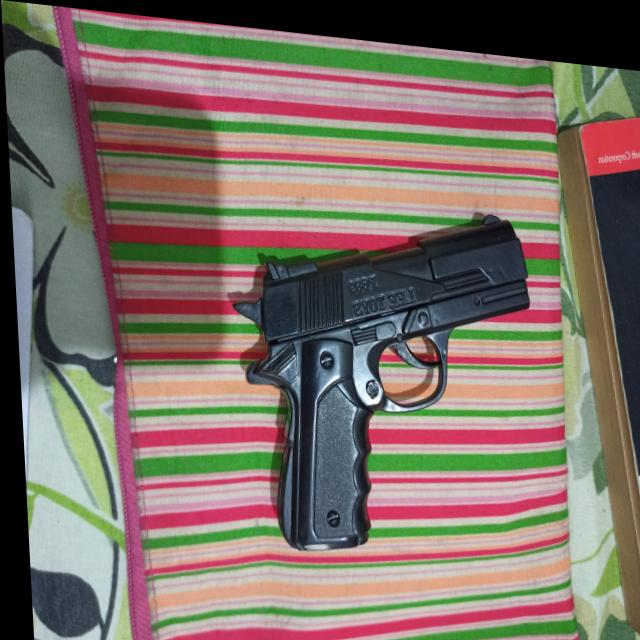handgun: (221, 175, 543, 570)
